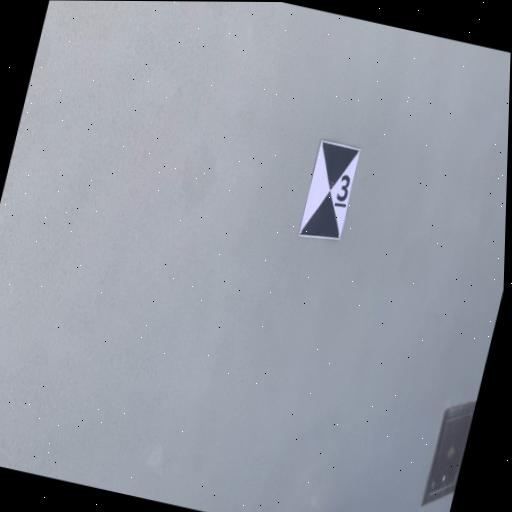target3: (298, 138, 361, 239)
